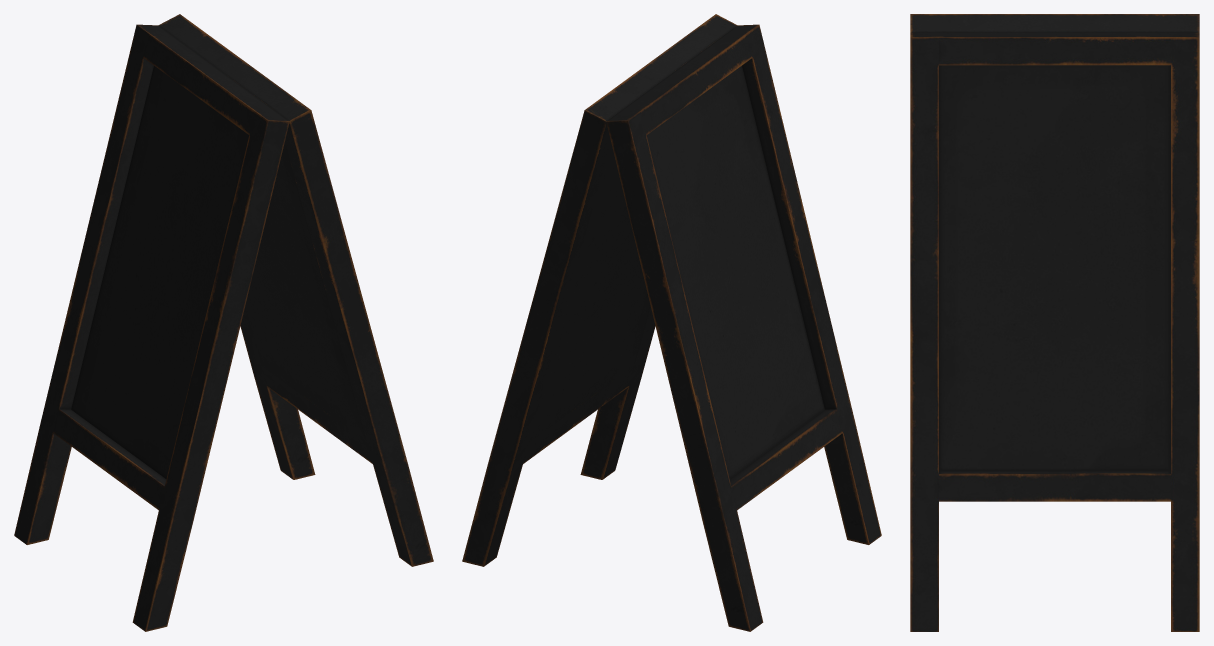
Rendered from floorSign.glb.
3 renders of one model, left to right at view 1: azimuth 30°, elevation 25°; view 2: azimuth 150°, elevation 25°; view 3: azimuth 270°, elevation 25°, orthographic. The views are drawn at different scales.
Visible parts, largest first — view 1: SM_floor_sign.002; view 2: SM_floor_sign.002; view 3: SM_floor_sign.002.
Boxes of the visible parts, box(x1,y1,x2,y2) form: SM_floor_sign.002: box(14, 14, 433, 631); SM_floor_sign.002: box(462, 14, 881, 631); SM_floor_sign.002: box(910, 14, 1199, 631).
Bounding box in the file's own units: 71.15 × 113 × 56.19.
Materials: 1 (1 with a texture image).
